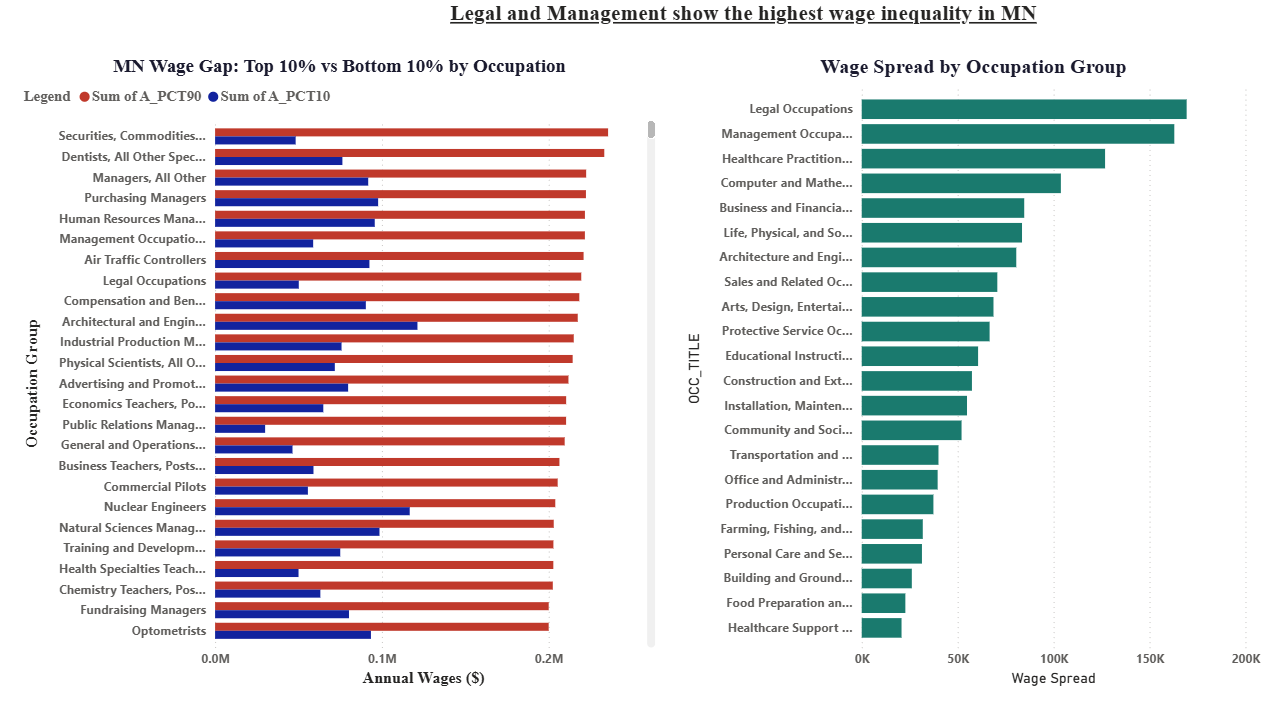

The page's visual inventory and layout, read from the dashboard file:
{"tool":"powerbi","page":{"name":"Q2. Wage Gaps","canvas":[1280,720],"ordinal":1},"visuals":[{"type":"clusteredBarChart","title":"MN Wage Gap: Top 10% vs Bottom 10% by Occupation","fields":{"Category":["oews_mn.OCC_TITLE"],"Y":["Sum(oews_mn.A_PCT90)","Sum(oews_mn.A_PCT10)"]},"box":[28.4,69.7,638.6,632.9],"z":0},{"type":"clusteredBarChart","title":"Wage Spread by Occupation Group","fields":{"Category":["oews_mn.OCC_TITLE"],"Y":["jvs_mn.Wage Spread"]},"box":[688.4,69.7,581.7,632.9],"z":1000},{"type":"textbox","box":[412.4,11.4,684.1,39.8],"z":2000}]}

Visuals, with their boxes in screenshot pixels (x1, y1, x2, y2), scaled from the page's 1280x720 canvas onto the 1274x706 screenshot:
"MN Wage Gap: Top 10% vs Bottom 10% by Occupation" clusteredBarChart: pyautogui.locateOnScreen(28, 68, 664, 689)
"Wage Spread by Occupation Group" clusteredBarChart: pyautogui.locateOnScreen(685, 68, 1264, 689)
textbox: pyautogui.locateOnScreen(410, 11, 1091, 50)
